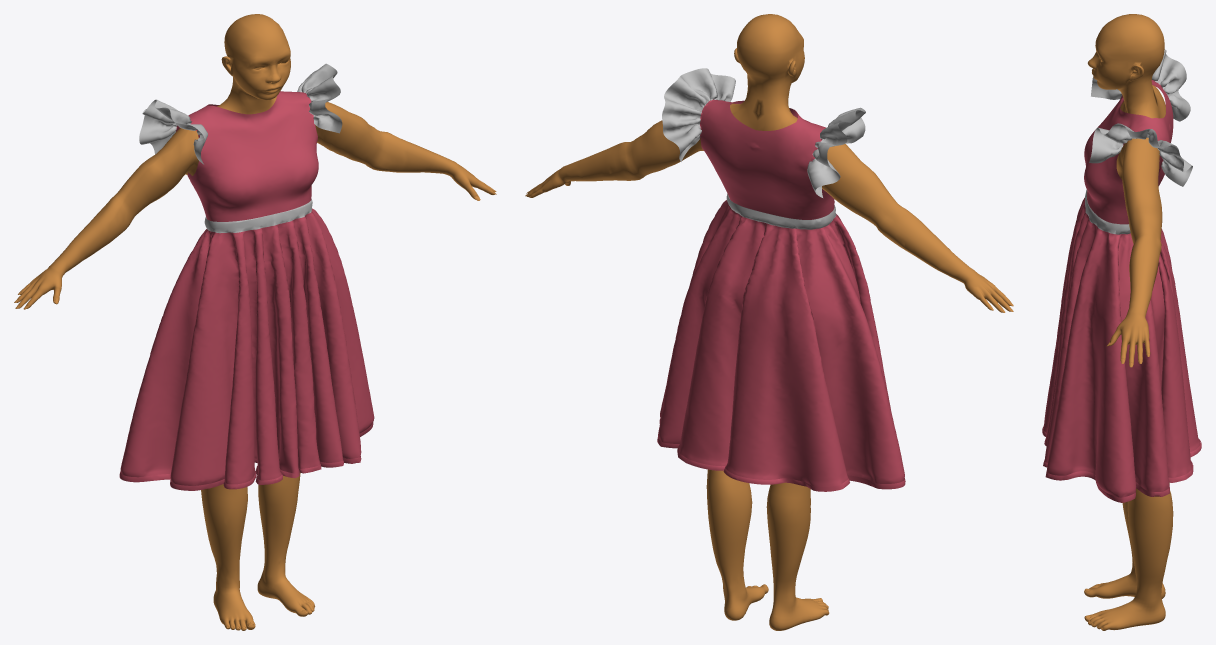
The model's file is dress4.glb.
3 views of the same model, side by side, from view 1: azimuth 30°, elevation 25°; view 2: azimuth 150°, elevation 25°; view 3: azimuth 270°, elevation 25° (orthographic).
Visible parts, largest first — view 1: PinkDrees#14 (OBJ), Body; view 2: PinkDrees#14 (OBJ), Body; view 3: PinkDrees#14 (OBJ), Body.
Boxes of the visible parts, left/top/right/bottom form: PinkDrees#14 (OBJ): left=119, top=63, right=374, bottom=490; Body: left=16, top=14, right=496, bottom=630; PinkDrees#14 (OBJ): left=657, top=68, right=905, bottom=491; Body: left=526, top=14, right=1010, bottom=630; PinkDrees#14 (OBJ): left=1042, top=49, right=1201, bottom=502; Body: left=1084, top=14, right=1173, bottom=630.
Size of the model in its own units: 1.58 by 1.85 by 0.451.
